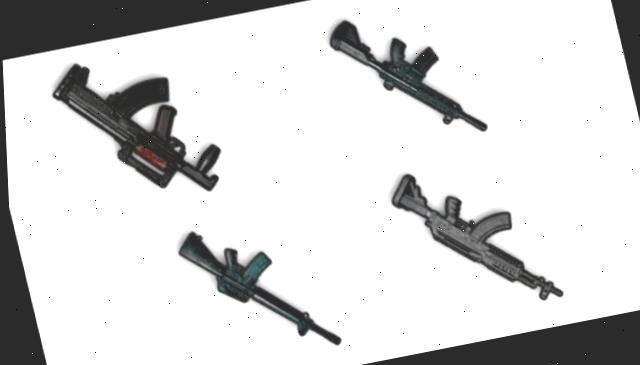rifle: (378, 142, 565, 328), (41, 30, 228, 215), (164, 199, 343, 365), (308, 0, 490, 160)
